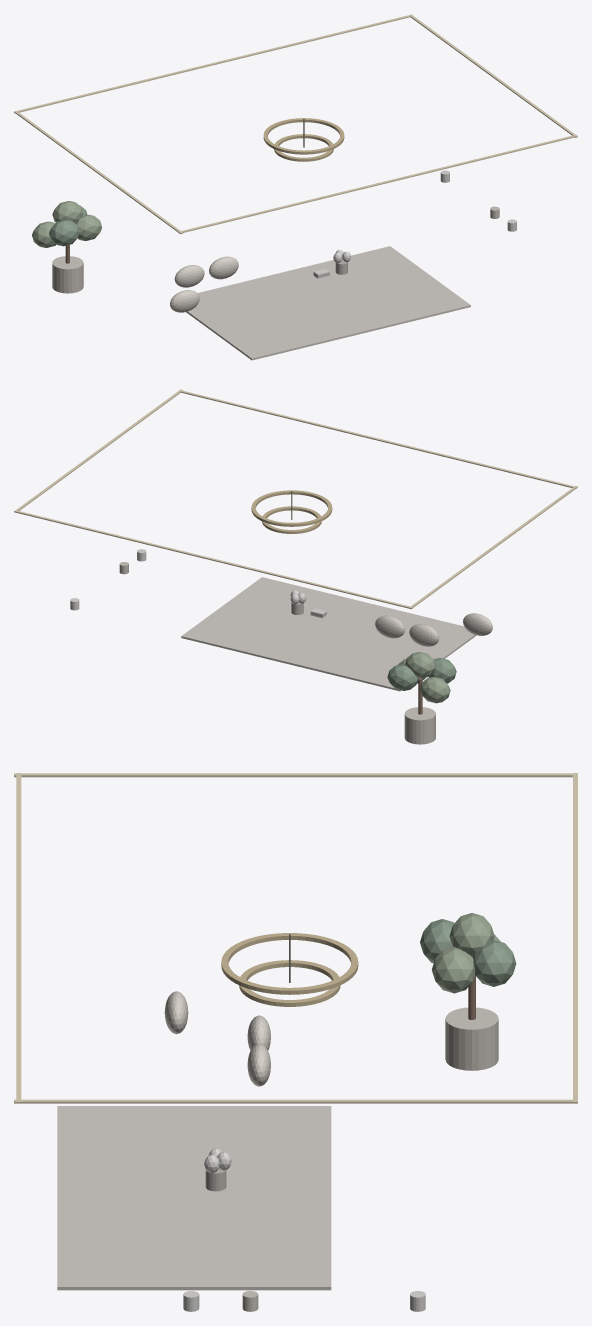
The model's file is 03_details.glb.
The picture shows the model from 3 angles, top to bottom: view 1: azimuth 30°, elevation 25°; view 2: azimuth 150°, elevation 25°; view 3: azimuth 270°, elevation 25°; orthographic projection. The views are drawn at different scales.
Parts seen in each view (by area): view 1: detail_area_rug, detail_cove_light_1, detail_cove_light_0, detail_plant_pot, detail_pendant_ring_0, detail_cove_light_2, detail_cove_light_3, detail_plant_leaf_cluster_3, detail_pendant_ring_1, detail_pillow_0, detail_pillow_2, detail_pillow_1 (+3 smaller); view 2: detail_area_rug, detail_cove_light_0, detail_cove_light_1, detail_plant_pot, detail_pendant_ring_0, detail_cove_light_3, detail_cove_light_2, detail_plant_leaf_cluster_0, detail_plant_leaf_cluster_1, detail_pendant_ring_1, detail_plant_leaf_cluster_4, detail_pillow_2 (+2 smaller); view 3: detail_area_rug, detail_plant_pot, detail_cove_light_2, detail_cove_light_3, detail_pendant_ring_0, detail_cove_light_1, detail_cove_light_0, detail_pendant_ring_1, detail_plant_leaf_cluster_2, detail_plant_leaf_cluster_1, detail_plant_leaf_cluster_4, detail_plant_leaf_cluster_3 (+2 smaller).
Boxes of the visible parts, x1=… form: detail_area_rug: x1=186, y1=246, x2=470, y2=360; detail_cove_light_1: x1=178, y1=135, x2=576, y2=233; detail_cove_light_0: x1=14, y1=14, x2=412, y2=113; detail_plant_pot: x1=52, y1=256, x2=83, y2=293; detail_pendant_ring_0: x1=263, y1=118, x2=344, y2=154; detail_cove_light_2: x1=15, y1=111, x2=183, y2=234; detail_cove_light_3: x1=410, y1=15, x2=577, y2=137; detail_plant_leaf_cluster_3: x1=49, y1=219, x2=79, y2=246; detail_pendant_ring_1: x1=274, y1=134, x2=333, y2=161; detail_pillow_0: x1=170, y1=290, x2=199, y2=312; detail_pillow_2: x1=209, y1=256, x2=238, y2=279; detail_pillow_1: x1=174, y1=265, x2=204, y2=287; detail_area_rug: x1=181, y1=577, x2=476, y2=691; detail_cove_light_0: x1=14, y1=510, x2=413, y2=609; detail_cove_light_1: x1=179, y1=390, x2=577, y2=488; detail_plant_pot: x1=404, y1=707, x2=435, y2=744; detail_pendant_ring_0: x1=251, y1=490, x2=332, y2=526; detail_cove_light_3: x1=15, y1=389, x2=183, y2=511; detail_cove_light_2: x1=410, y1=486, x2=577, y2=607; detail_plant_leaf_cluster_0: x1=419, y1=677, x2=450, y2=703; detail_plant_leaf_cluster_1: x1=387, y1=664, x2=418, y2=690; detail_pendant_ring_1: x1=262, y1=506, x2=321, y2=533; detail_plant_leaf_cluster_4: x1=405, y1=652, x2=435, y2=678; detail_pillow_2: x1=375, y1=615, x2=404, y2=638; detail_area_rug: x1=57, y1=1106, x2=331, y2=1290; detail_plant_pot: x1=445, y1=1007, x2=498, y2=1070; detail_cove_light_2: x1=14, y1=773, x2=575, y2=777; detail_cove_light_3: x1=14, y1=1099, x2=574, y2=1103; detail_pendant_ring_0: x1=221, y1=933, x2=358, y2=994; detail_cove_light_1: x1=16, y1=773, x2=21, y2=1103; detail_cove_light_0: x1=573, y1=773, x2=577, y2=1103; detail_pendant_ring_1: x1=239, y1=960, x2=340, y2=1006; detail_plant_leaf_cluster_2: x1=432, y1=946, x2=475, y2=993; detail_plant_leaf_cluster_1: x1=473, y1=940, x2=516, y2=986; detail_plant_leaf_cluster_4: x1=449, y1=913, x2=494, y2=957; detail_plant_leaf_cluster_3: x1=420, y1=919, x2=454, y2=963.
Bounding box in the file's own units: 8.08 × 3.09 × 5.72.
